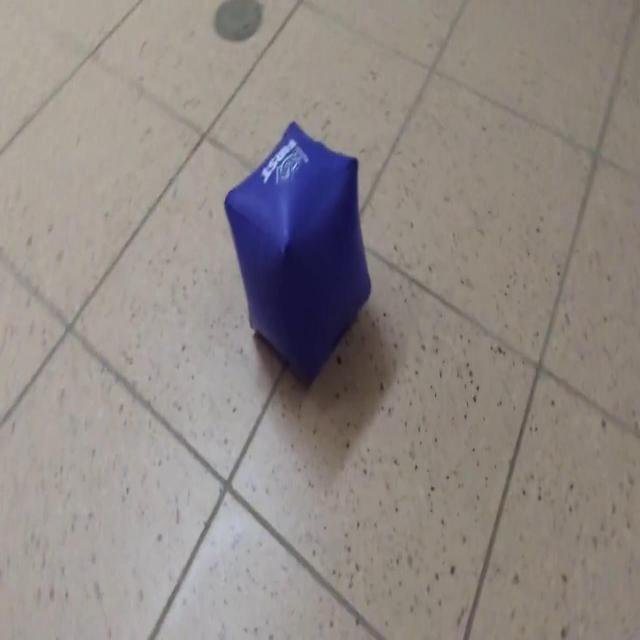frc_cube: (224, 120, 372, 381)
